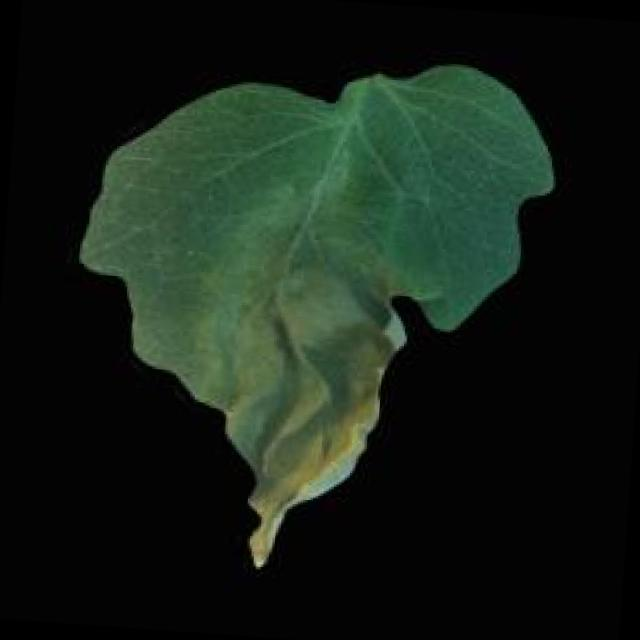Tomato_Late_Blight: (228, 316, 395, 588)
